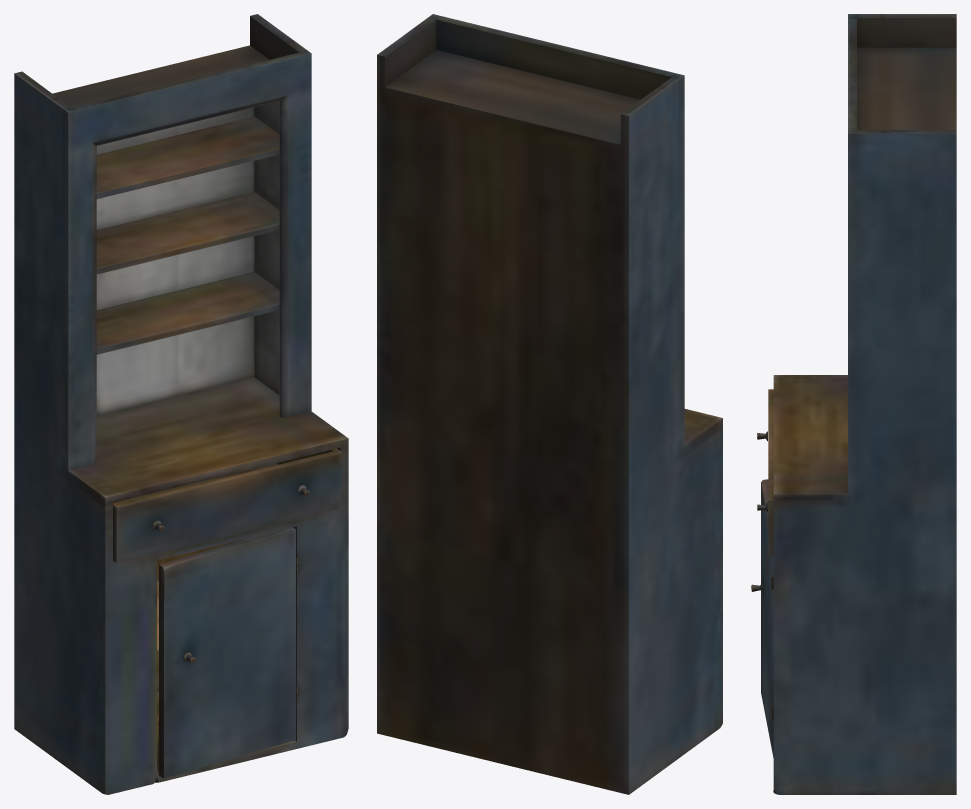
File: cupboard.gltf
3 views of the same model, side by side, from view 1: azimuth 30°, elevation 25°; view 2: azimuth 150°, elevation 25°; view 3: azimuth 270°, elevation 25° (orthographic). The views are drawn at different scales.
Parts seen in each view (by area): view 1: painted_wooden_cabinet_02, painted_wooden_cabinet_02_door, painted_wooden_cabinet_02_drawer; view 2: painted_wooden_cabinet_02; view 3: painted_wooden_cabinet_02, painted_wooden_cabinet_02_door, painted_wooden_cabinet_02_drawer.
Part boxes in pixels (x1=…): painted_wooden_cabinet_02: x1=14, y1=14, x2=348, y2=794; painted_wooden_cabinet_02_door: x1=158, y1=527, x2=295, y2=778; painted_wooden_cabinet_02_drawer: x1=113, y1=448, x2=342, y2=563; painted_wooden_cabinet_02: x1=377, y1=14, x2=722, y2=794; painted_wooden_cabinet_02: x1=770, y1=14, x2=956, y2=794; painted_wooden_cabinet_02_door: x1=751, y1=479, x2=773, y2=757; painted_wooden_cabinet_02_drawer: x1=757, y1=389, x2=773, y2=556.
Size of what is drawn, in the model's own units: 0.9969 by 2.57 by 0.7228.
Materials: 1 (1 with a texture image).
